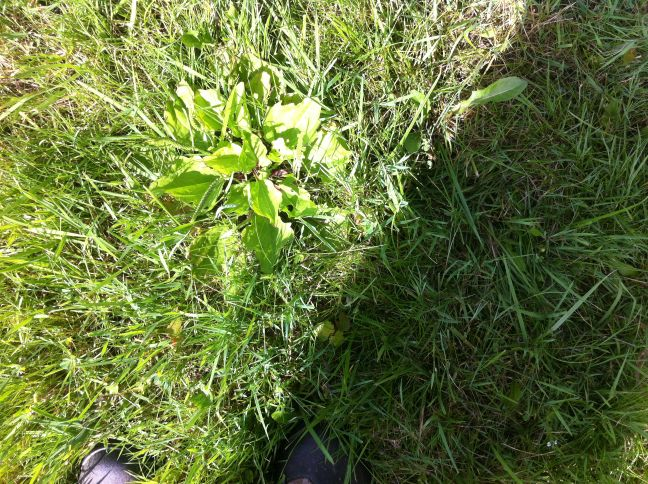weed1: (137, 67, 371, 271)
